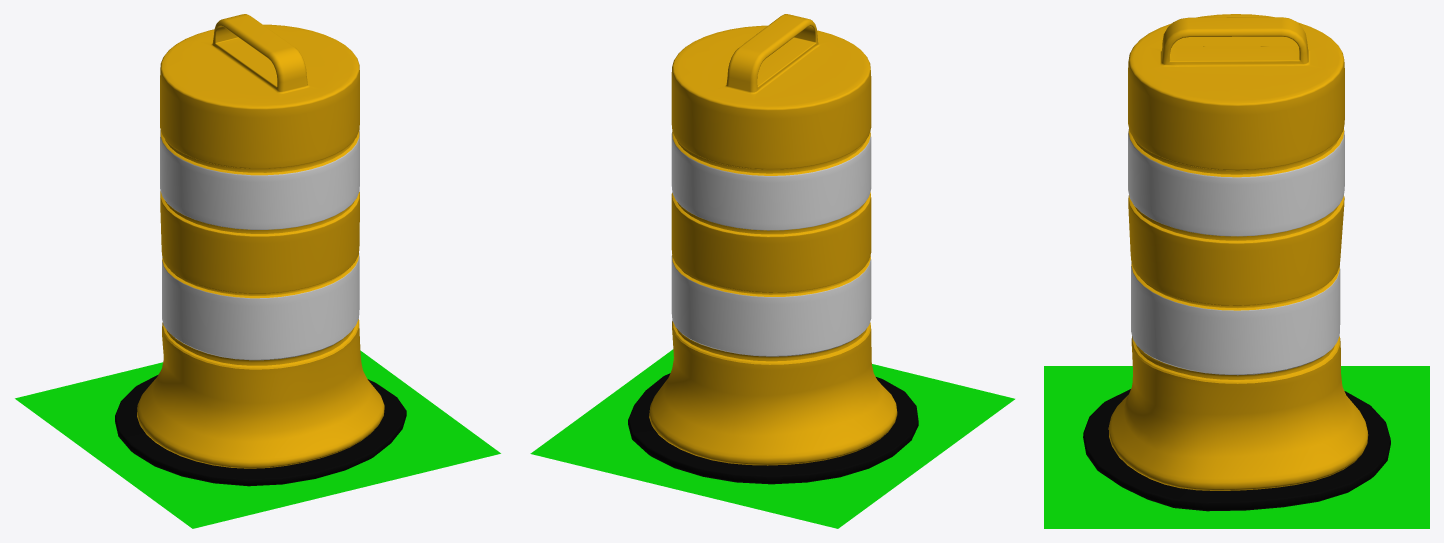
Rendered from koneBucket.fbx.
The picture shows the model from 3 angles, left to right: view 1: azimuth 30°, elevation 25°; view 2: azimuth 150°, elevation 25°; view 3: azimuth 270°, elevation 25°; orthographic projection. The views are drawn at different scales.
Parts seen in each view (by area): view 1: koneBucket, shdw_decal; view 2: koneBucket, shdw_decal; view 3: koneBucket, shdw_decal.
Part boxes in pixels (x1,y1,x2,y2): koneBucket: (115,14,406,486); shdw_decal: (15,350,500,528); koneBucket: (628,14,918,484); shdw_decal: (530,349,1014,528); koneBucket: (1083,14,1390,511); shdw_decal: (1044,366,1429,528).
Size of the model in its own units: 87.28 by 106 by 87.28.
